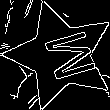M_W: (28, 26, 93, 85)
